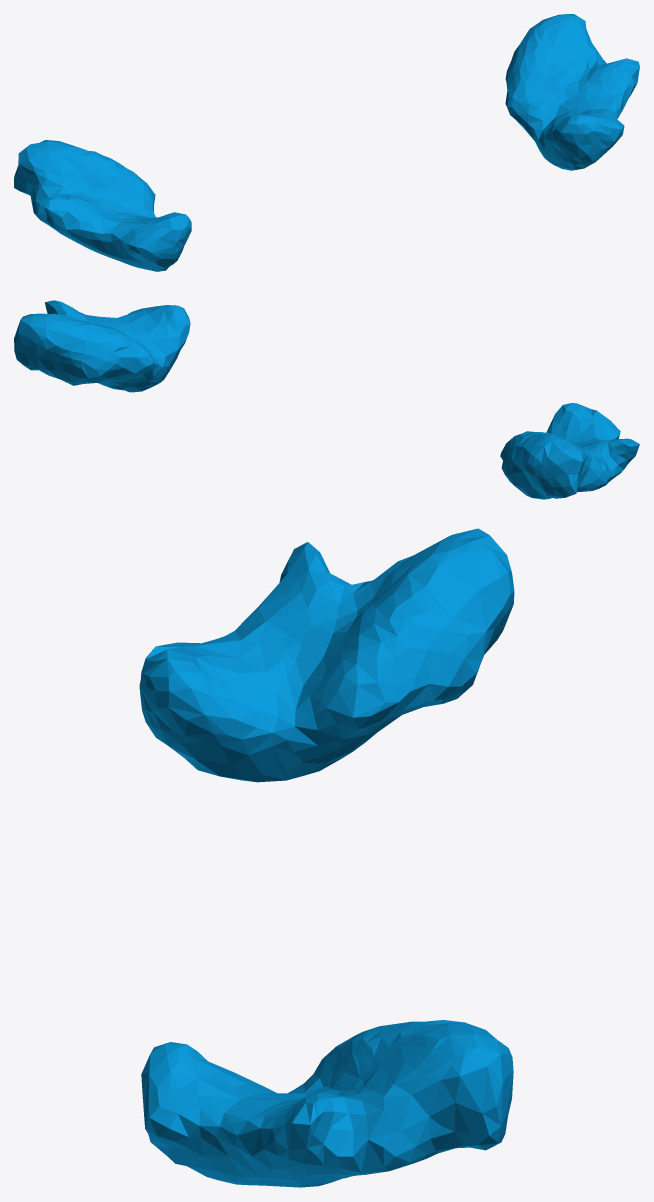
Rendered from 1-TE1-temporal area TE1-('0.0000', '0.6902', '1.0000').obj.
The picture shows the model from 3 angles, top to bottom: view 1: azimuth 30°, elevation 25°; view 2: azimuth 150°, elevation 25°; view 3: azimuth 270°, elevation 25°; orthographic projection. The views are drawn at different scales.
Size of the model in its own units: 270 by 41.98 by 74.11.
